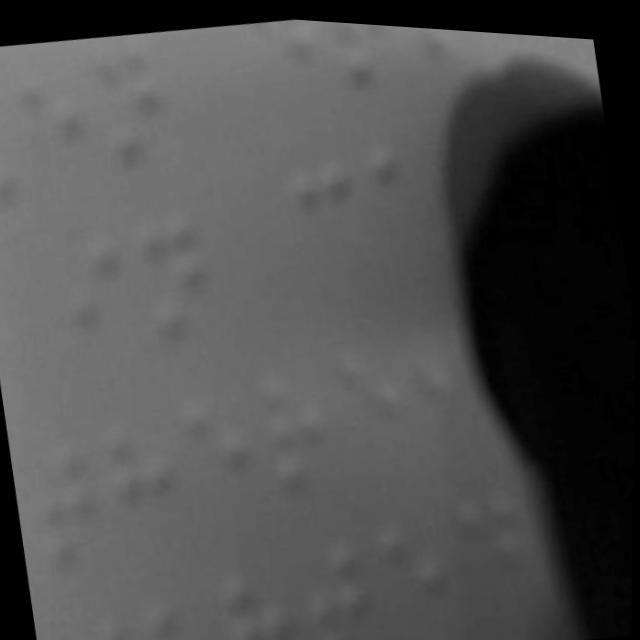braiile: (131, 200, 227, 370), (280, 146, 376, 315), (103, 412, 203, 571), (329, 328, 428, 487), (60, 229, 156, 389), (178, 381, 273, 536), (257, 352, 352, 507), (92, 26, 182, 181), (34, 446, 124, 597), (16, 61, 103, 212), (378, 503, 469, 640), (295, 528, 384, 640), (0, 94, 34, 221)
